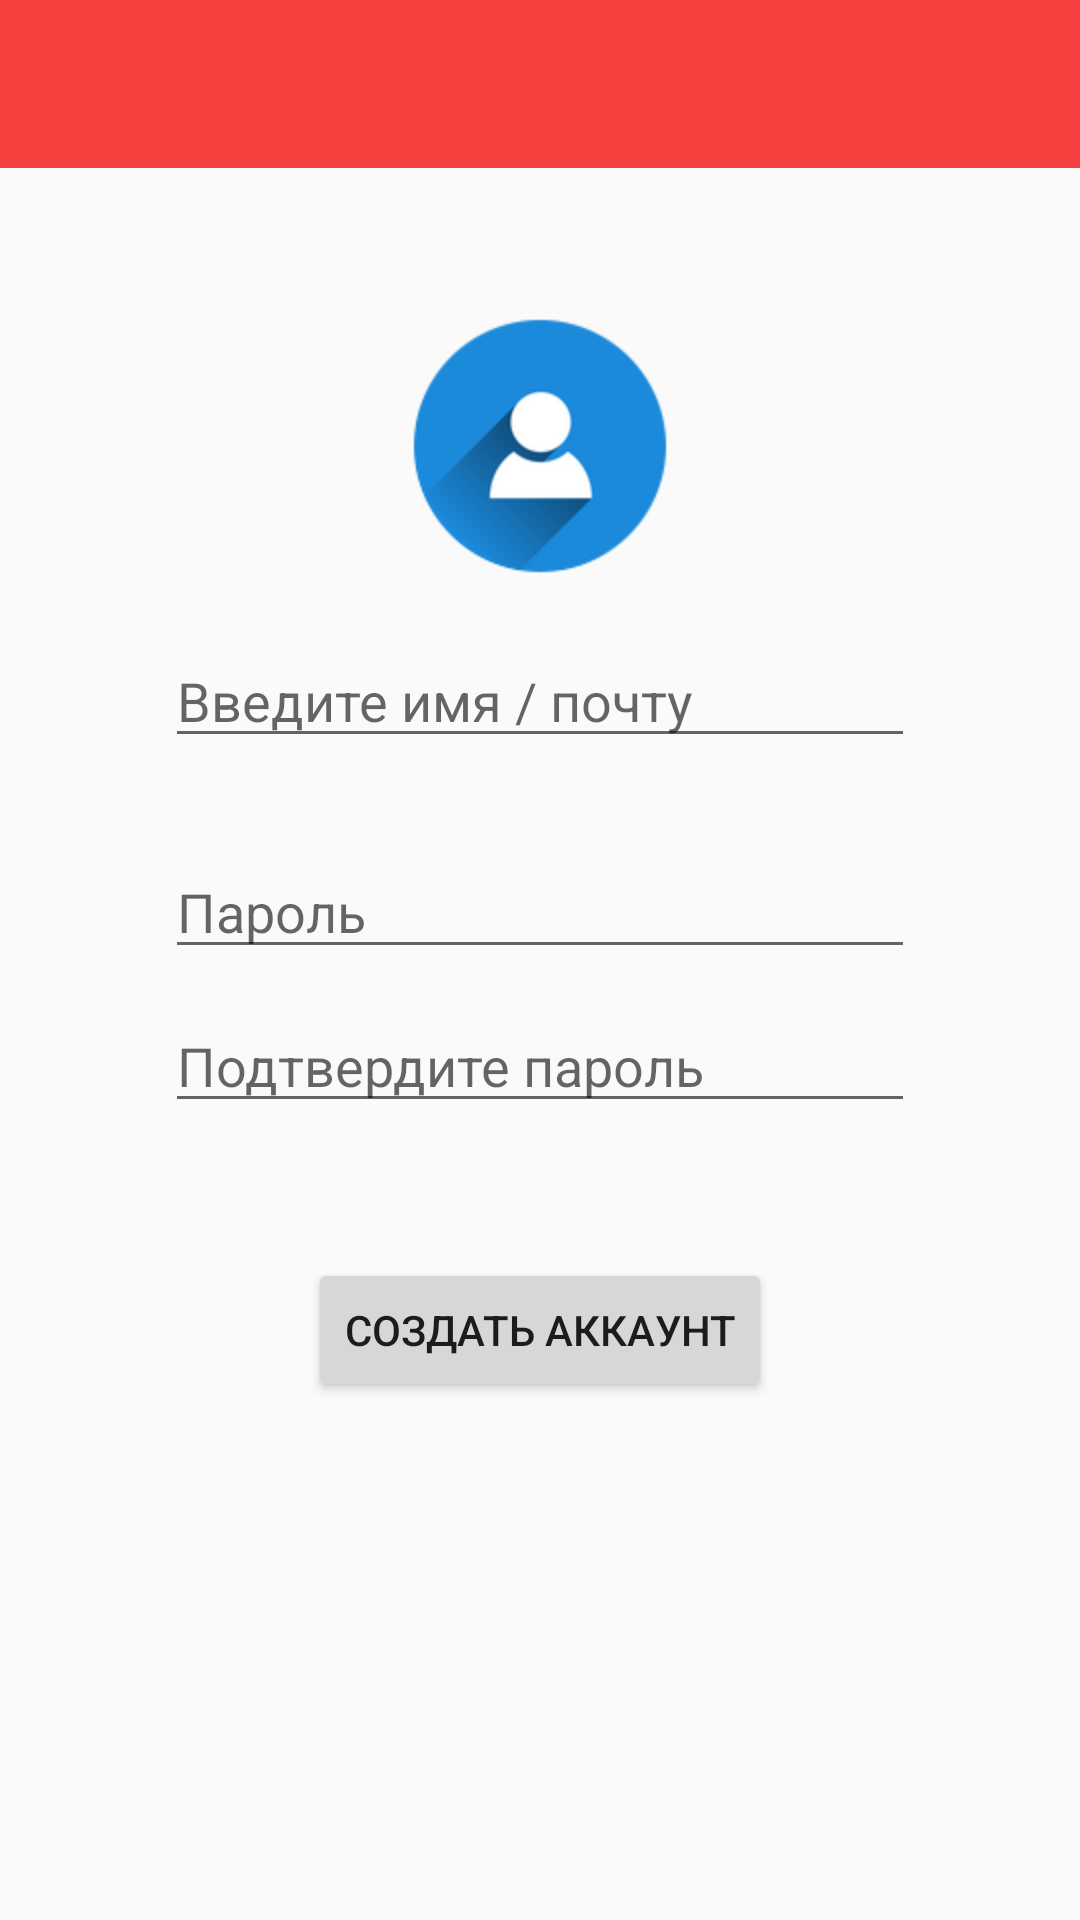

Screen size 1080*1920. Icon name, then its center in pixels as [x,y]:
profile: [540,446]
